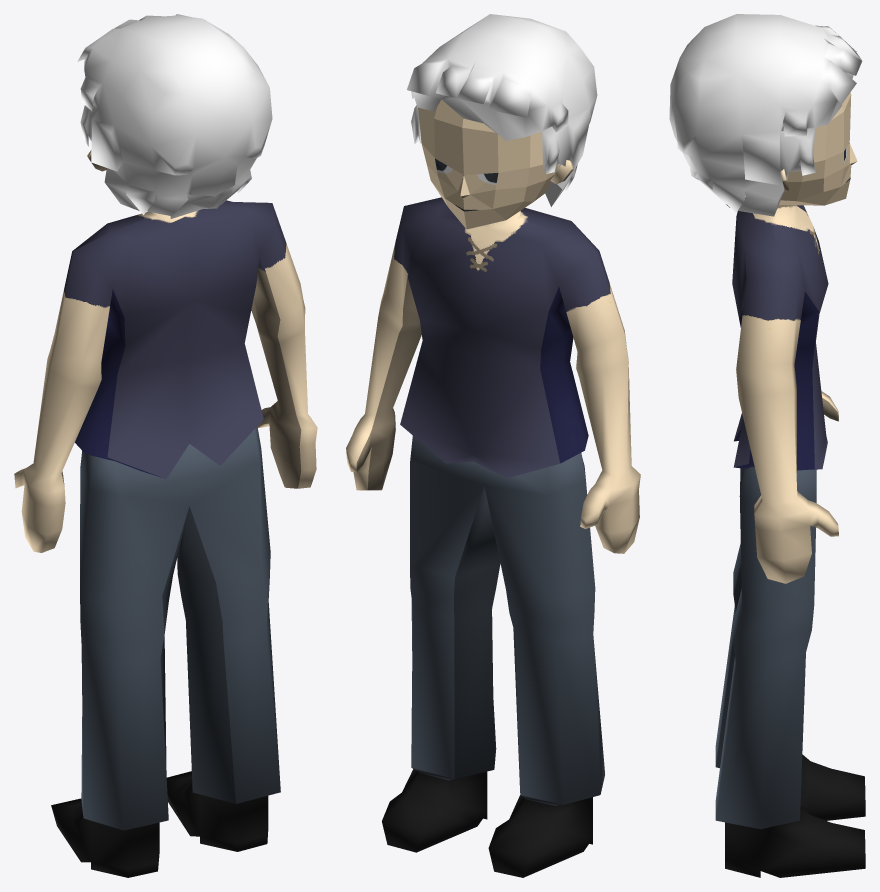
File: M OLD 1.glb
3 views of the same model, side by side, from view 1: azimuth 30°, elevation 25°; view 2: azimuth 150°, elevation 25°; view 3: azimuth 270°, elevation 25° (orthographic). The views are drawn at different scales.
Parts seen in each view (by area): view 1: MEN SHIRT, SHORT HAIR; view 2: MEN SHIRT, SHORT HAIR, MAN HEAD; view 3: MEN SHIRT, SHORT HAIR, MAN HEAD.
Part boxes in pixels (x1,y1,x2,y2): MEN SHIRT: (14,200,317,877); SHORT HAIR: (77,14,272,218); MEN SHIRT: (346,197,640,877); SHORT HAIR: (407,14,597,206); MAN HEAD: (418,99,557,229); MEN SHIRT: (715,204,865,877); SHORT HAIR: (669,14,862,216); MAN HEAD: (779,92,857,205).
Bounding box in the file's own units: 3.24 × 9.03 × 1.98.
Materials: 4 (4 with a texture image).
